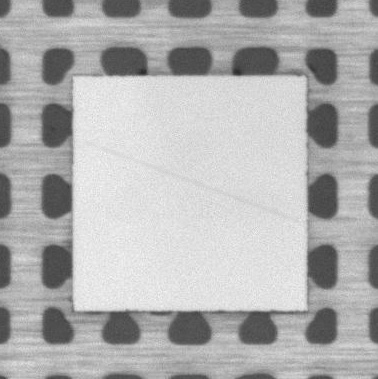DIE_CRACK: (86, 142, 297, 222)
